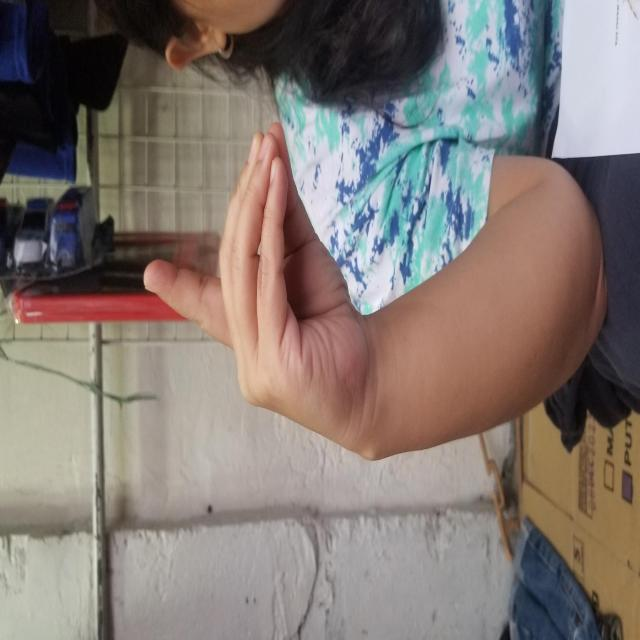D: (194, 144, 520, 364)
